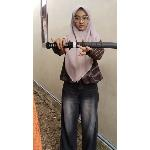Pedang: (42, 38, 118, 58)
